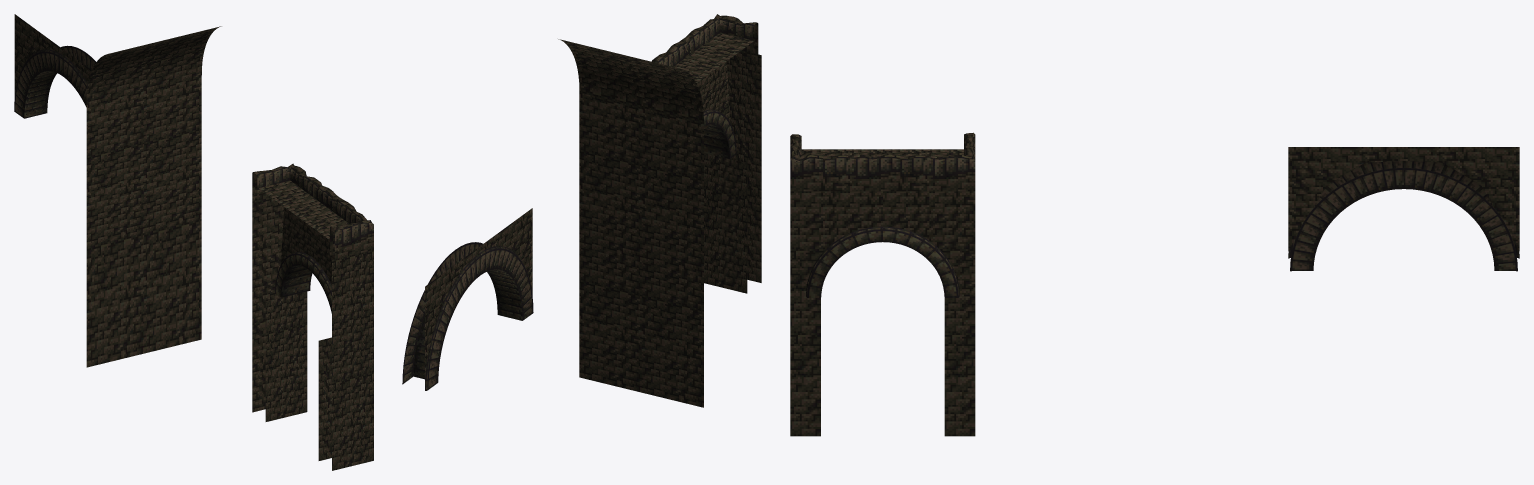
File: EnvMdrMD_Mount_C_Arch_A.FBX
The picture shows the model from 3 angles, left to right: view 1: azimuth 30°, elevation 25°; view 2: azimuth 150°, elevation 25°; view 3: azimuth 270°, elevation 25°; orthographic projection. The views are drawn at different scales.
Visible parts, largest first — view 1: EnvMdrMD_Mount_C_Arch_A_Tunnel_A_400D1200H, EnvMdrMD_Mount_C_Arch_D, EnvMdrMD_Mount_C_Arch_A; view 2: EnvMdrMD_Mount_C_Arch_A_Tunnel_A_400D1200H, EnvMdrMD_Mount_C_Arch_D, EnvMdrMD_Mount_C_Arch_A; view 3: EnvMdrMD_Mount_C_Arch_D, EnvMdrMD_Mount_C_Arch_A.
Boxes of the visible parts, left/top/right/bottom form: EnvMdrMD_Mount_C_Arch_A_Tunnel_A_400D1200H: left=86, top=26, right=221, bottom=367; EnvMdrMD_Mount_C_Arch_D: left=252, top=163, right=373, bottom=470; EnvMdrMD_Mount_C_Arch_A: left=14, top=14, right=95, bottom=118; EnvMdrMD_Mount_C_Arch_A_Tunnel_A_400D1200H: left=558, top=39, right=703, bottom=407; EnvMdrMD_Mount_C_Arch_D: left=651, top=14, right=761, bottom=293; EnvMdrMD_Mount_C_Arch_A: left=402, top=208, right=533, bottom=390; EnvMdrMD_Mount_C_Arch_D: left=790, top=132, right=975, bottom=436; EnvMdrMD_Mount_C_Arch_A: left=1288, top=147, right=1519, bottom=271.
Bounding box in the file's own units: 400 × 1120 × 1890.
Materials: 1 (1 with a texture image).
